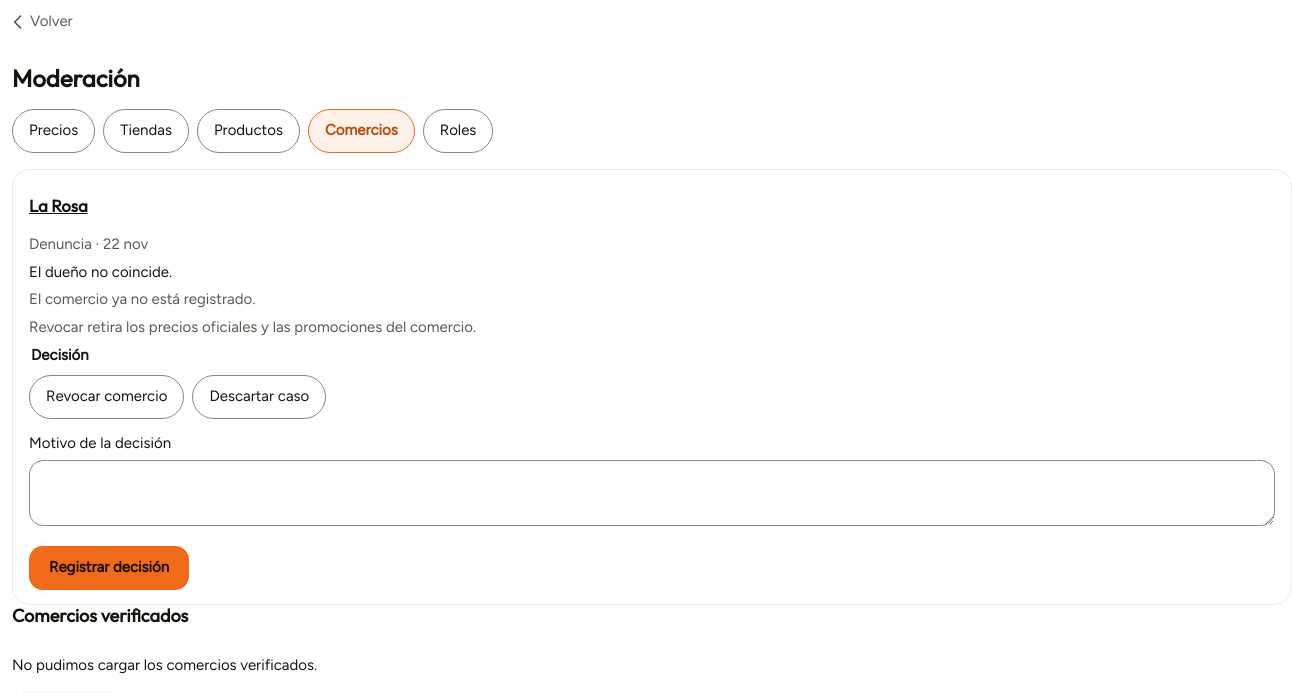
Scenario: permite al moderador revocar un comercio con motivo
Click the radio button labelled "Revocar comercio": x=107, y=396 [29,374,184,418]
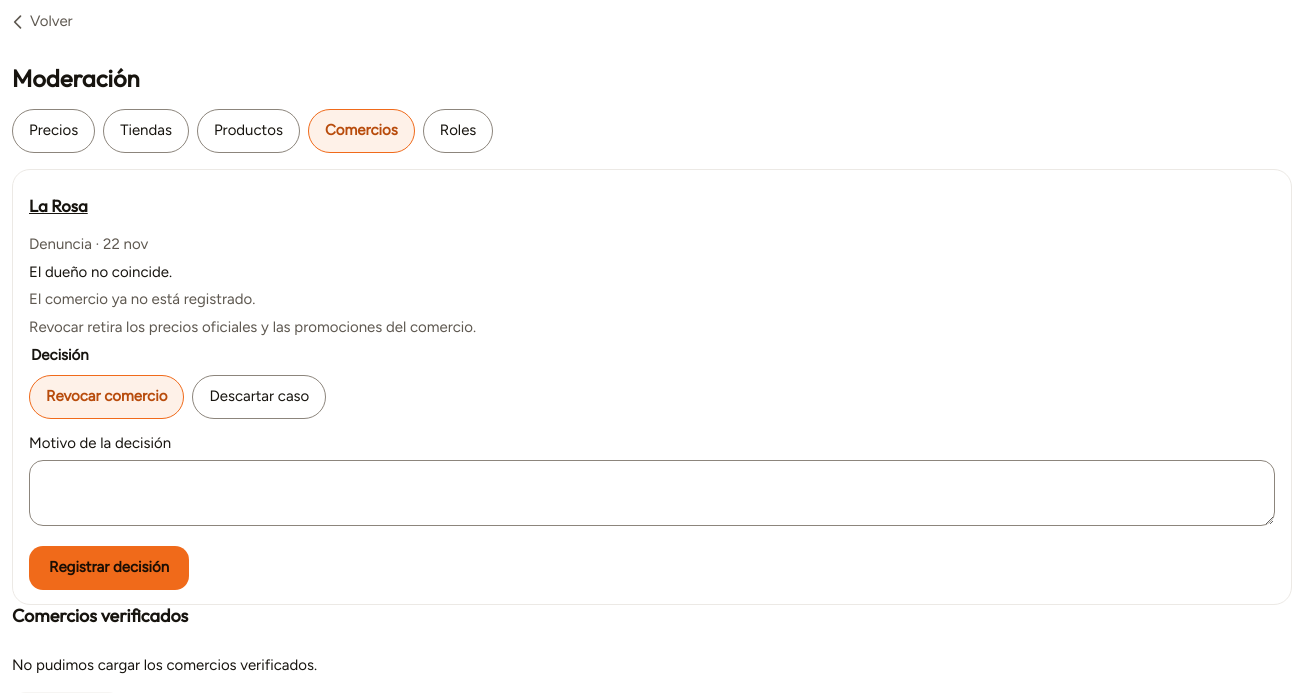
In the text box labelled "Motivo de la decisión": x=652, y=493 [29,460,1275,526], type "Motivo verificado por moderación."
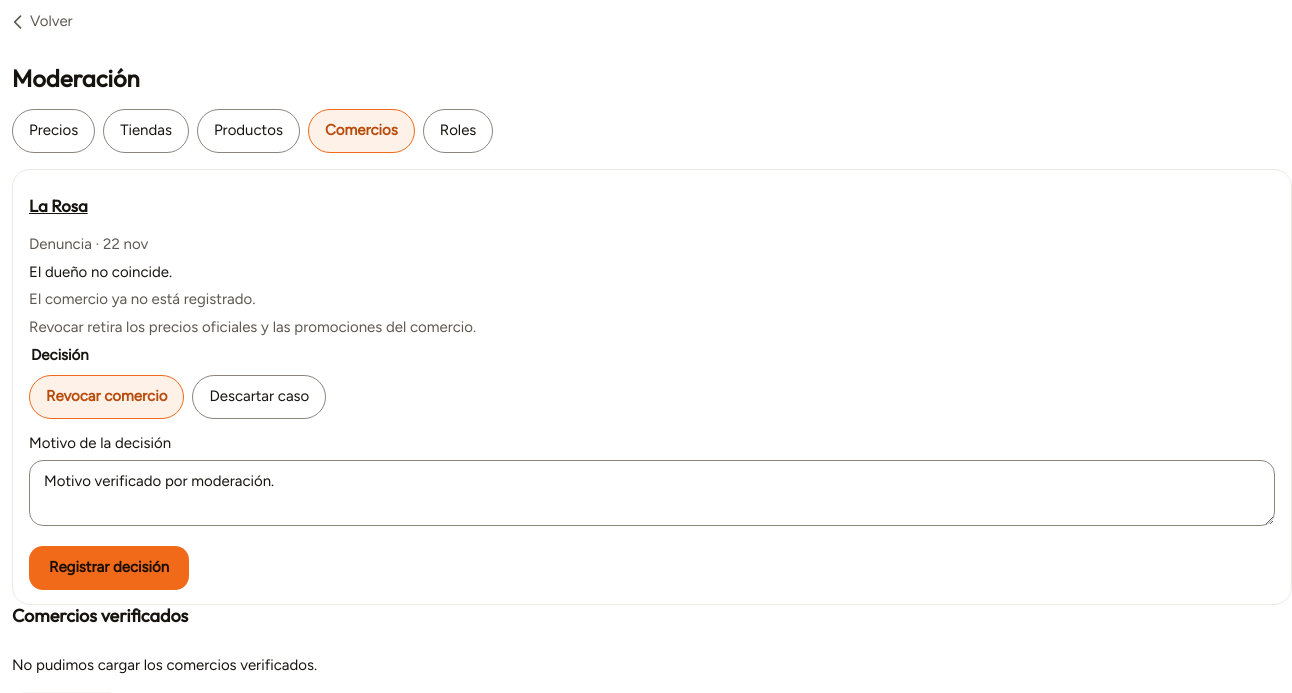
Click the button "Registrar decisión": x=109, y=568 [29,546,189,590]
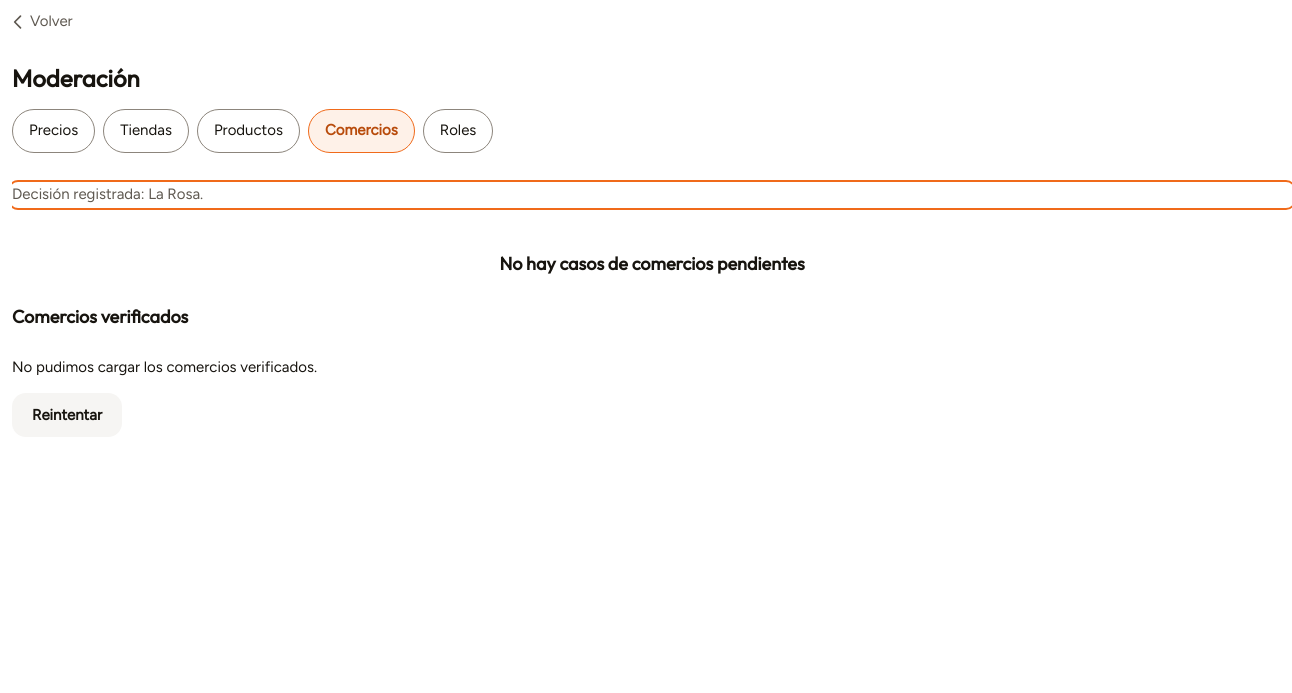
Now the text "Decisión registrada: La Rosa." is shown, box [12,185,203,203]
